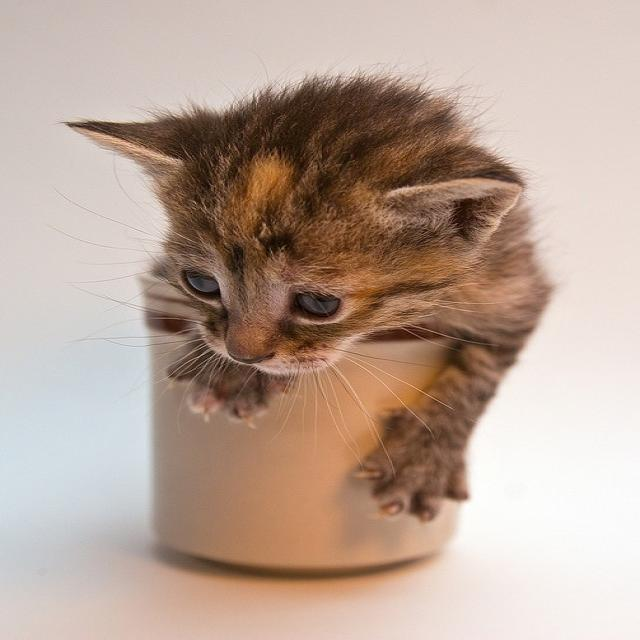cat: (69, 76, 552, 520)
